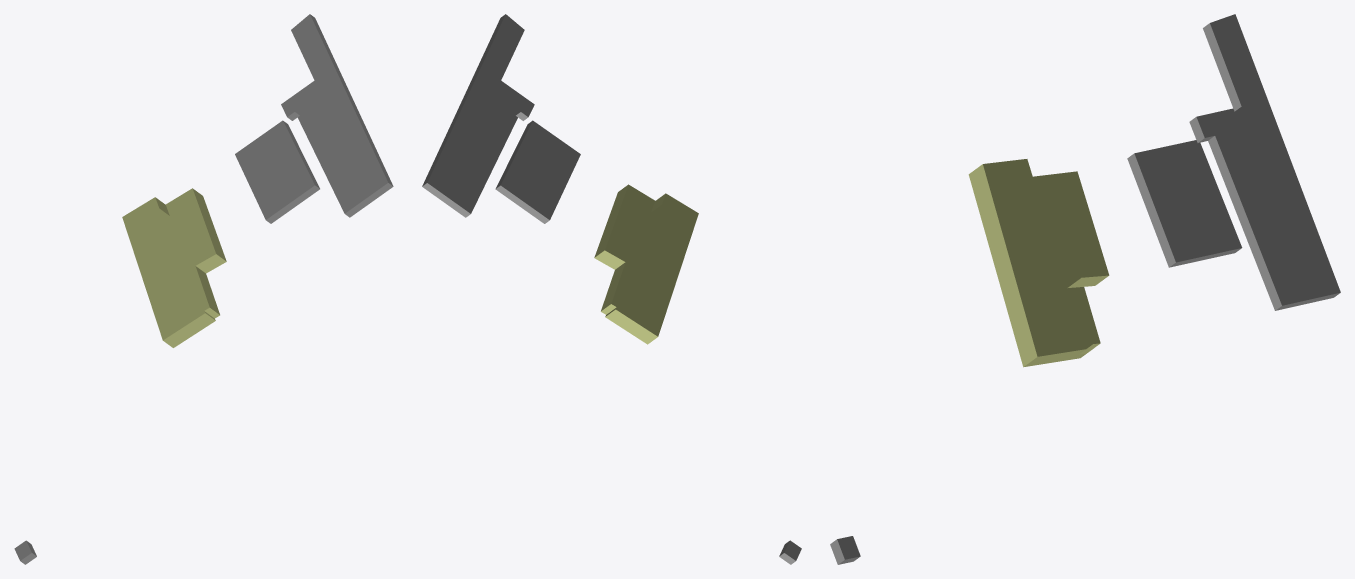
3 views of the same model, side by side, from view 1: azimuth 30°, elevation 25°; view 2: azimuth 150°, elevation 25°; view 3: azimuth 330°, elevation 25° (orthographic). The views are drawn at different scales.
Parts seen in each view (by area): view 1: 0_1_1_3_3_1_2; view 2: 0_1_1_3_3_1_2; view 3: 0_1_1_3_3_1_2.
Part boxes in pixels (x1,y1,x2,y2): 0_1_1_3_3_1_2: (14,14,393,564); 0_1_1_3_3_1_2: (422,14,801,564); 0_1_1_3_3_1_2: (830,14,1340,564).
Bounding box in the file's own units: 123 × 149 × 6.
